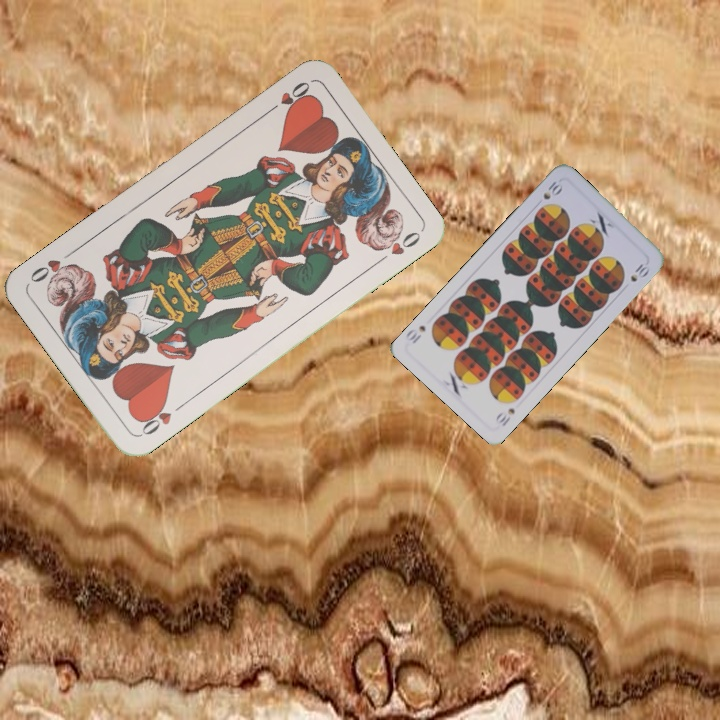HO: (135, 397, 188, 439), (262, 77, 313, 117)
S10: (539, 176, 566, 202), (491, 404, 518, 429)
